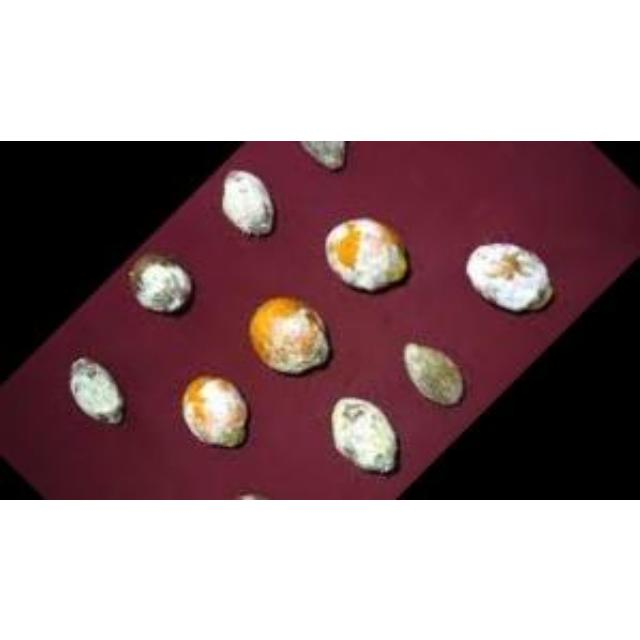damaged: (246, 294, 332, 378), (323, 217, 413, 296), (464, 243, 554, 316), (330, 397, 402, 478), (180, 375, 253, 450), (400, 341, 471, 410), (220, 168, 280, 243), (126, 253, 195, 318), (68, 356, 128, 427), (298, 140, 353, 170)
